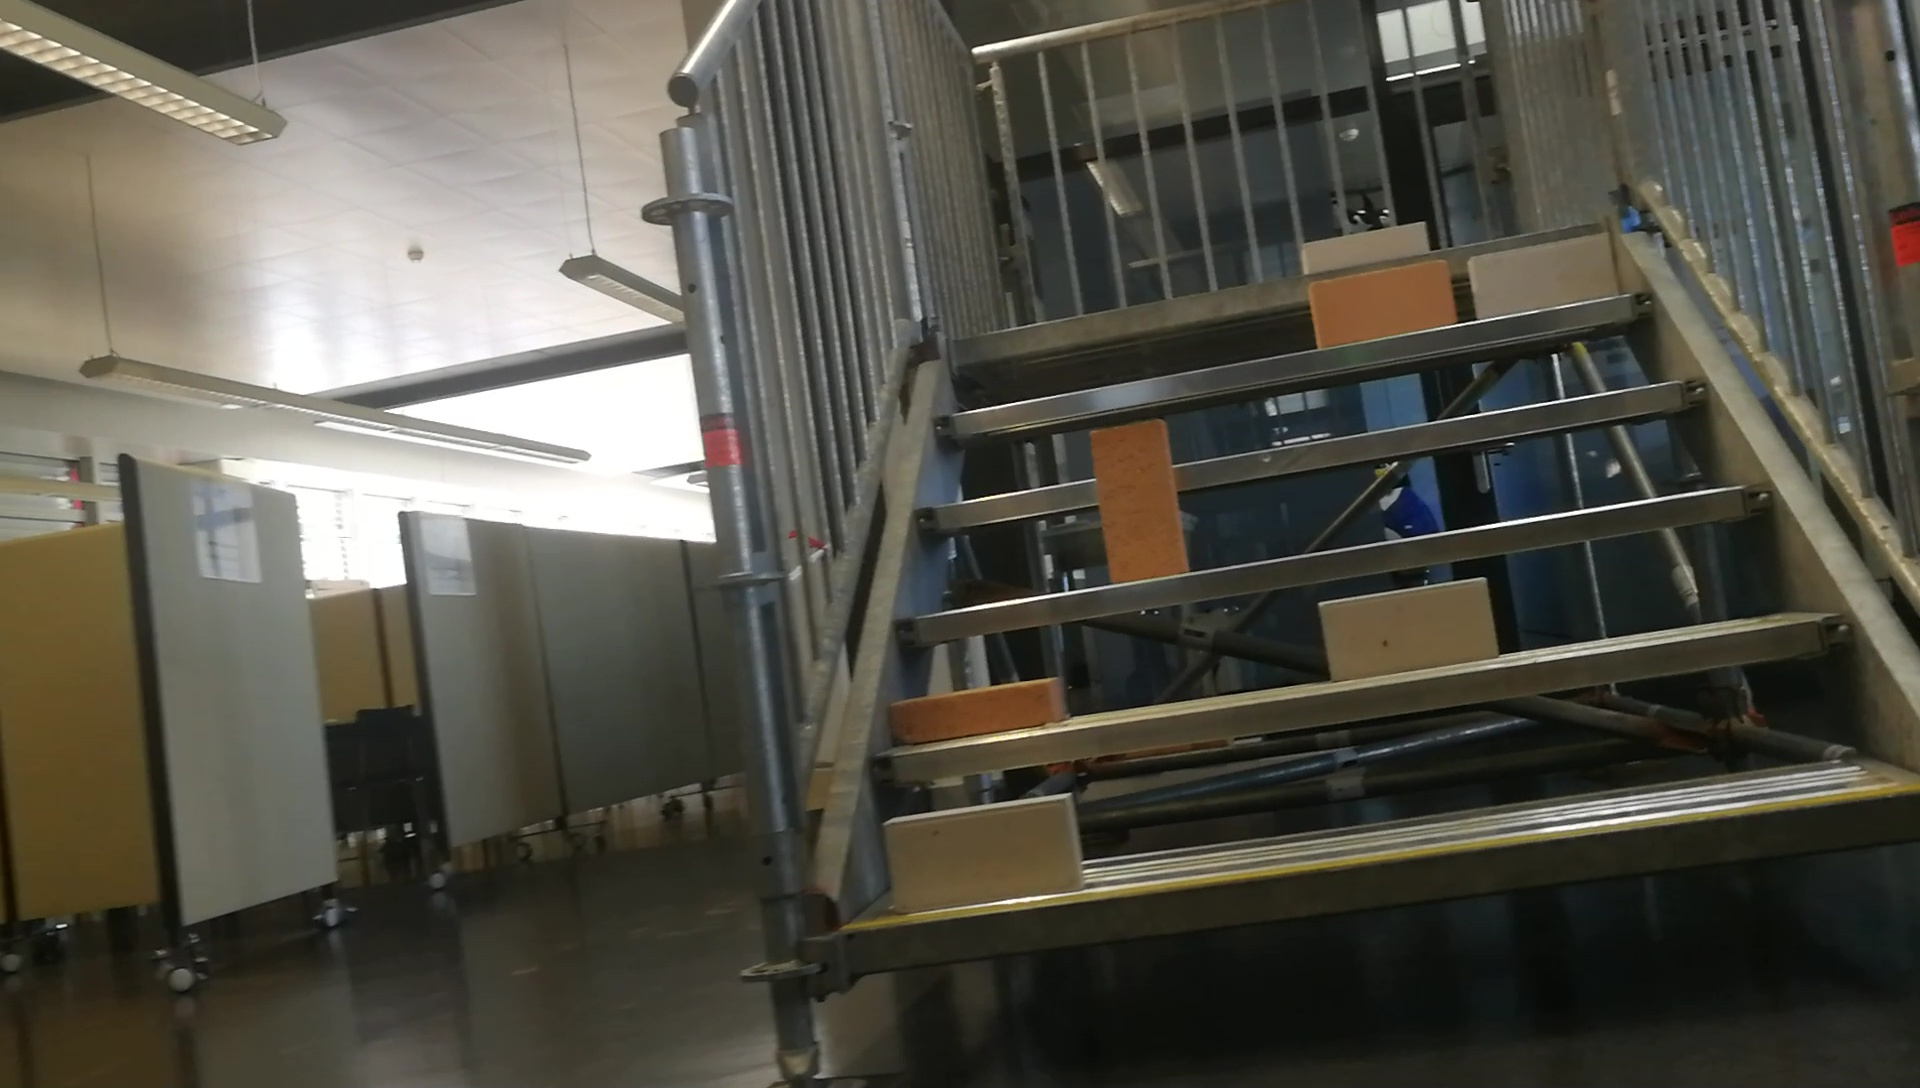brick: (887, 793, 1077, 913), (1317, 578, 1495, 680), (1085, 419, 1191, 586), (1472, 233, 1611, 320), (1309, 262, 1449, 349), (891, 678, 1060, 742), (1302, 223, 1428, 270)
edge: (847, 789, 1920, 965), (872, 611, 1847, 795), (913, 375, 1706, 553), (899, 485, 1768, 644), (938, 295, 1658, 440)
stairs: (642, 3, 1917, 1083)
steps: (806, 212, 1920, 990)
